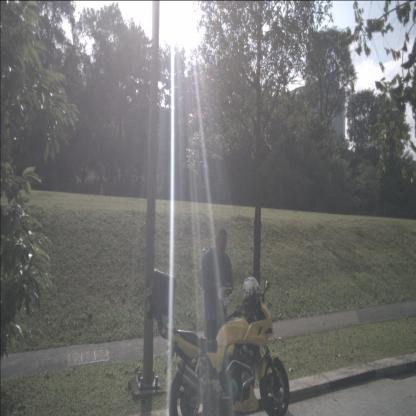human-pedestrian-adult: (199, 227, 234, 410)
vehicle-motorcycle: (146, 268, 290, 416)
